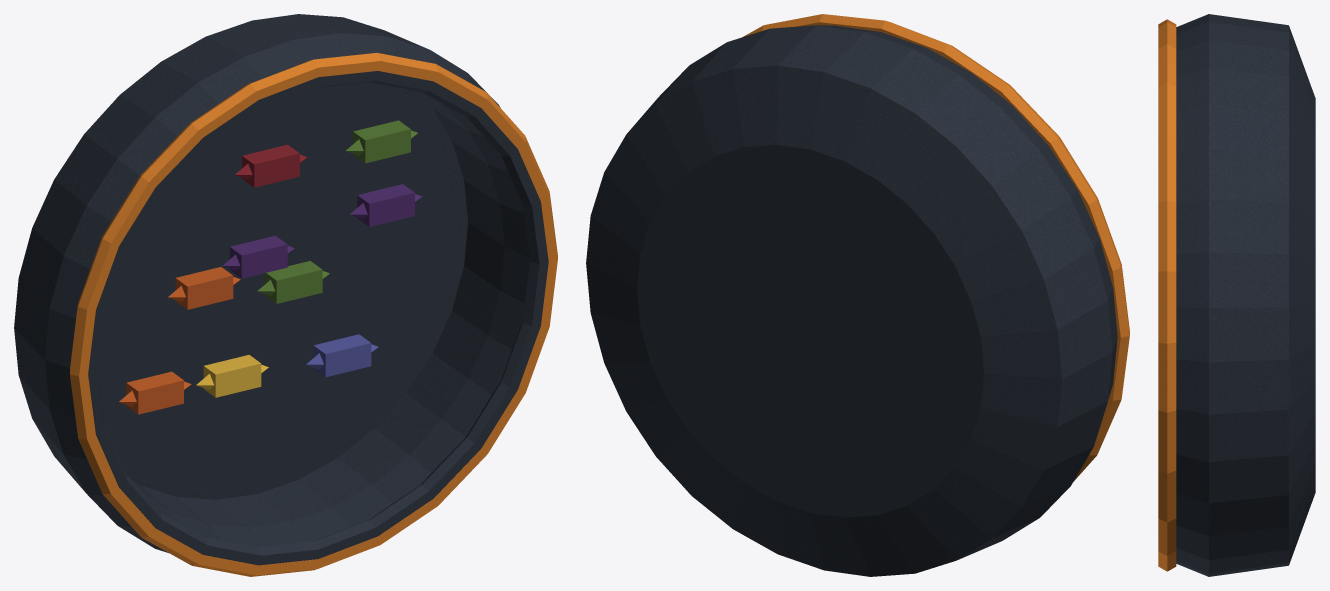
Rendered from EVHalloween_Decor_HalloweenCandyBowl_Fill1_Held.fbx.
3 renders of one model, left to right at view 1: azimuth 30°, elevation 25°; view 2: azimuth 150°, elevation 25°; view 3: azimuth 270°, elevation 25°, orthographic.
Visible parts, largest first — view 1: EVHalloween_Decor_PumpkinOrange; view 2: EVHalloween_Decor_PumpkinOrange; view 3: EVHalloween_Decor_PumpkinOrange.
Part boxes in pixels (left/top/right/bottom): EVHalloween_Decor_PumpkinOrange: left=14, top=14, right=557, bottom=576; EVHalloween_Decor_PumpkinOrange: left=586, top=14, right=1129, bottom=576; EVHalloween_Decor_PumpkinOrange: left=1158, top=14, right=1315, bottom=576.
Size of the model in its own units: 38 by 38 by 10.61.
